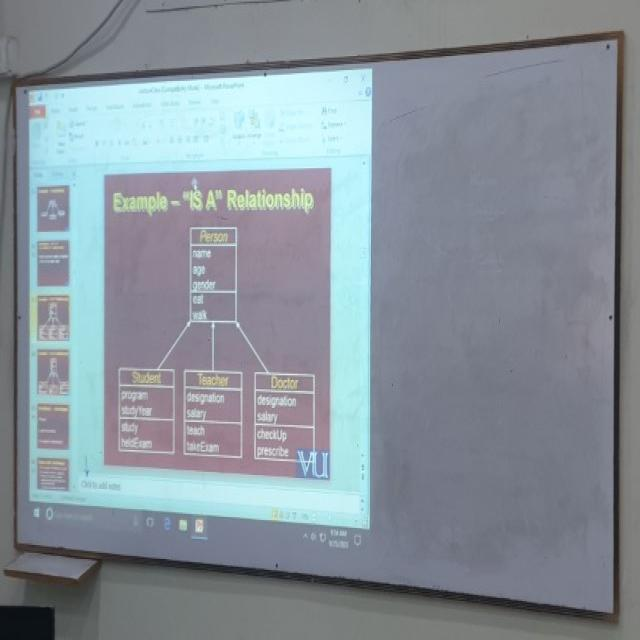Slide: (27, 72, 372, 554)
White-board: (17, 33, 620, 618)
